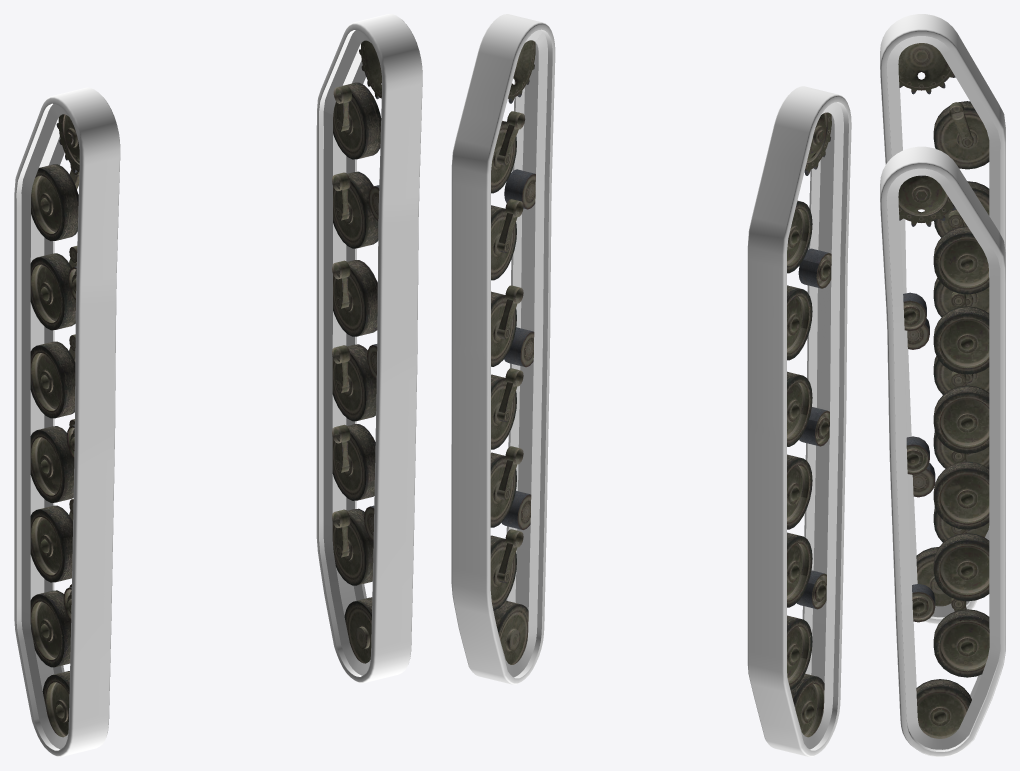
File: Chassis.glb
3 renders of one model, left to right at view 1: azimuth 30°, elevation 25°; view 2: azimuth 150°, elevation 25°; view 3: azimuth 270°, elevation 25°, orthographic. The views are drawn at different scales.
Parts seen in each view (by area): view 1: set_1_group_0, set_0_group_0, set_2_group_0, set_3_group_0; view 2: set_1_group_0, set_0_group_0, set_3_group_0, set_2_group_0; view 3: set_3_group_0, set_0_group_0, set_2_group_0, set_1_group_0.
Part boxes in pixels (x1,y1,x2,y2): set_1_group_0: (14, 87, 120, 756); set_0_group_0: (316, 14, 422, 683); set_2_group_0: (30, 114, 79, 737); set_3_group_0: (332, 40, 381, 663); set_1_group_0: (747, 86, 851, 756); set_0_group_0: (451, 14, 555, 684); set_3_group_0: (490, 40, 535, 664); set_2_group_0: (787, 112, 831, 737); set_3_group_0: (898, 175, 989, 738); set_0_group_0: (880, 146, 1005, 756); set_2_group_0: (898, 43, 989, 606); set_1_group_0: (880, 14, 1005, 624).
Bounding box in the file's own units: 2.69 × 5.01 × 0.959.
4 materials, 2 textured.
